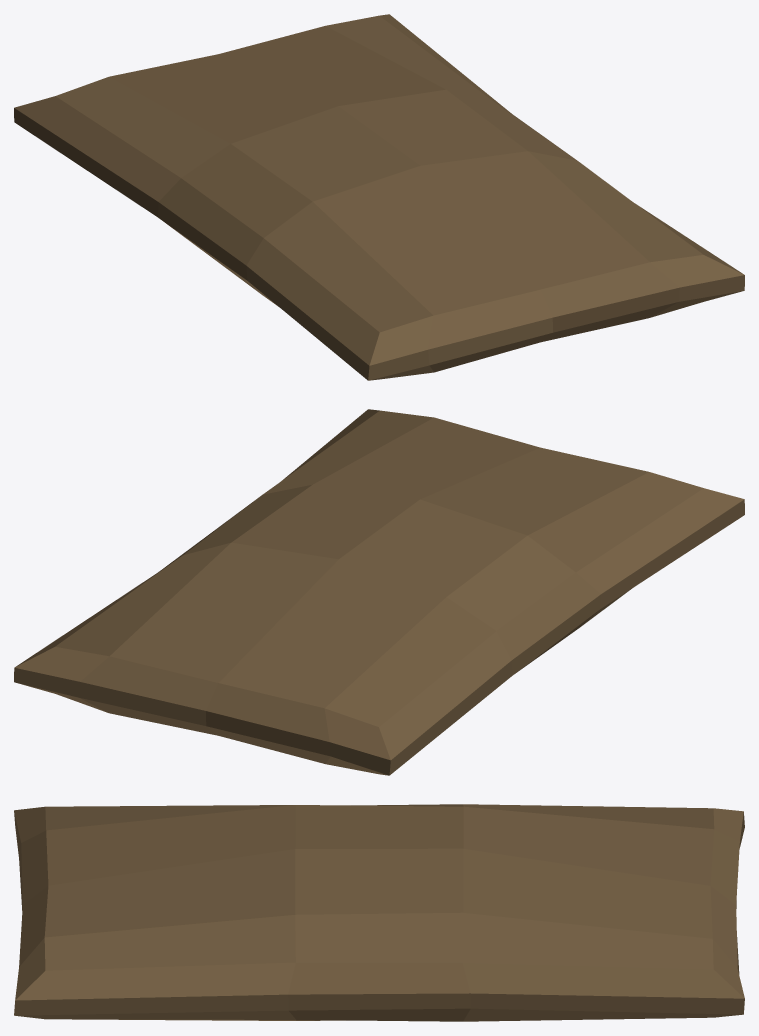
File: Soil_Bag_2.FBX
3 renders of one model, top to bottom at view 1: azimuth 30°, elevation 25°; view 2: azimuth 150°, elevation 25°; view 3: azimuth 270°, elevation 25°, orthographic. The views are drawn at different scales.
Visible parts, largest first — view 1: soil; view 2: soil; view 3: soil.
Boxes of the visible parts, left/top/right/bottom form: soil: left=14, top=14, right=744, bottom=380; soil: left=14, top=409, right=744, bottom=775; soil: left=14, top=804, right=744, bottom=1021.
Size of the model in its own units: 15.06 by 4.76 by 24.6.
